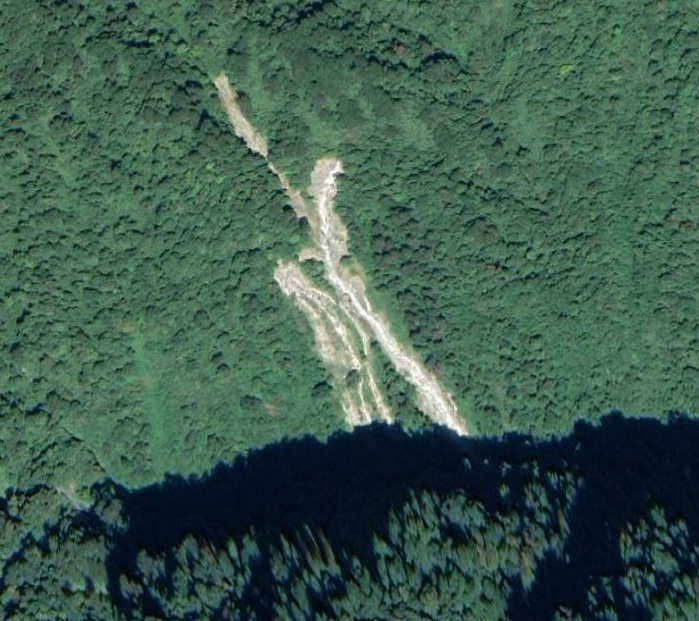slope: (212, 66, 472, 439)
